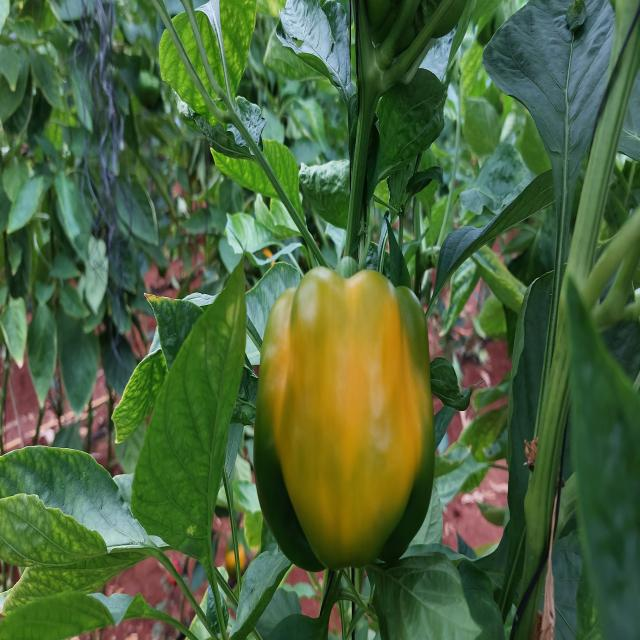GreenishYellow--Can-be-Harvested: (256, 268, 453, 565)
